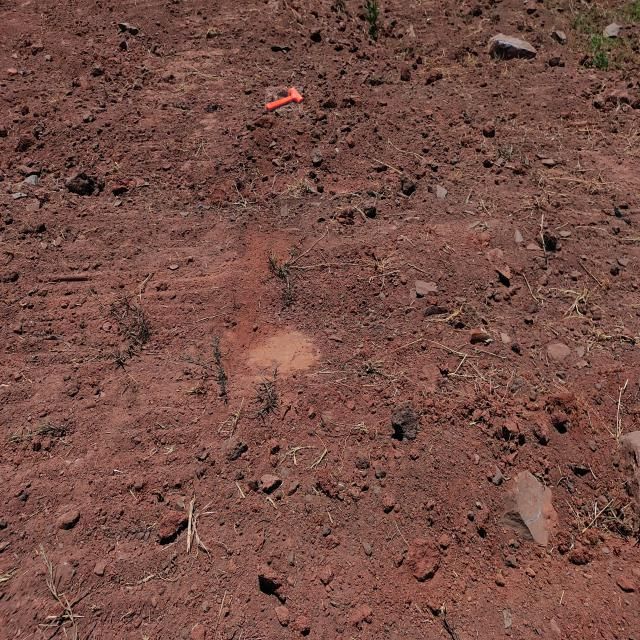Orange_hammer: (265, 86, 303, 111)
